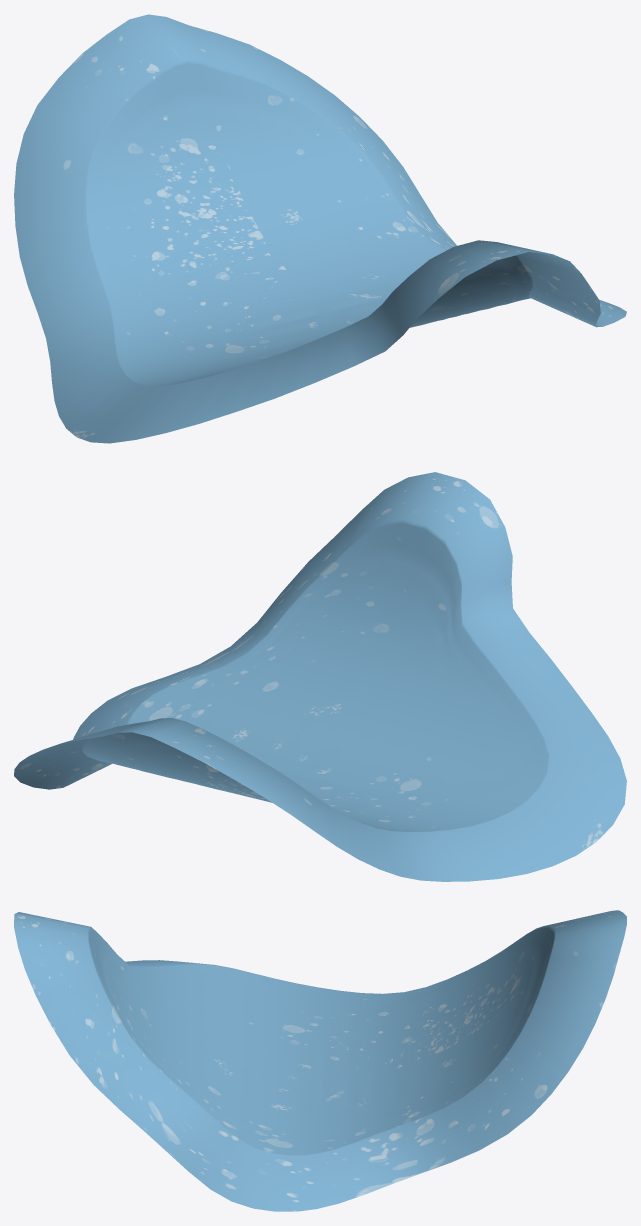
File: Large Water Puddle.fbx
3 views of the same model, one above another, from view 1: azimuth 30°, elevation 25°; view 2: azimuth 150°, elevation 25°; view 3: azimuth 270°, elevation 25° (orthographic). The views are drawn at different scales.
Parts seen in each view (by area): view 1: Large; view 2: Large; view 3: Large.
Boxes of the visible parts, x1,y1,x2,y2 form: Large: [14, 14, 626, 443]; Large: [14, 472, 626, 881]; Large: [14, 910, 626, 1211].
Size of the model in its own units: 50.55 by 19.51 by 56.74.
Materials: 1 (1 with a texture image).
